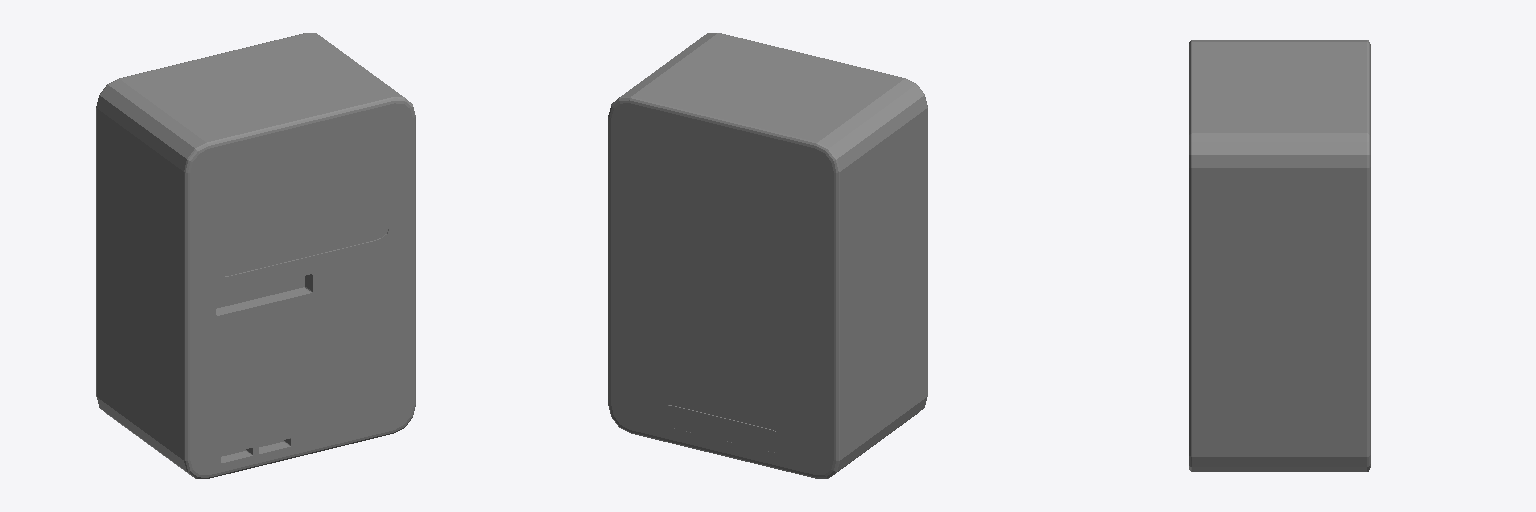
File: CuerpoBMO_obj.obj
3 renders of one model, left to right at view 1: azimuth 30°, elevation 25°; view 2: azimuth 150°, elevation 25°; view 3: azimuth 270°, elevation 25°, orthographic.
Parts seen in each view (by area): view 1: cuerpo; view 2: cuerpo; view 3: cuerpo.
Boxes of the visible parts, <box> form: cuerpo: <box>96,33,415,478</box>; cuerpo: <box>608,33,927,478</box>; cuerpo: <box>1189,40,1370,471</box>.
Bounding box in the file's own units: 1.07 × 1.48 × 0.7276.